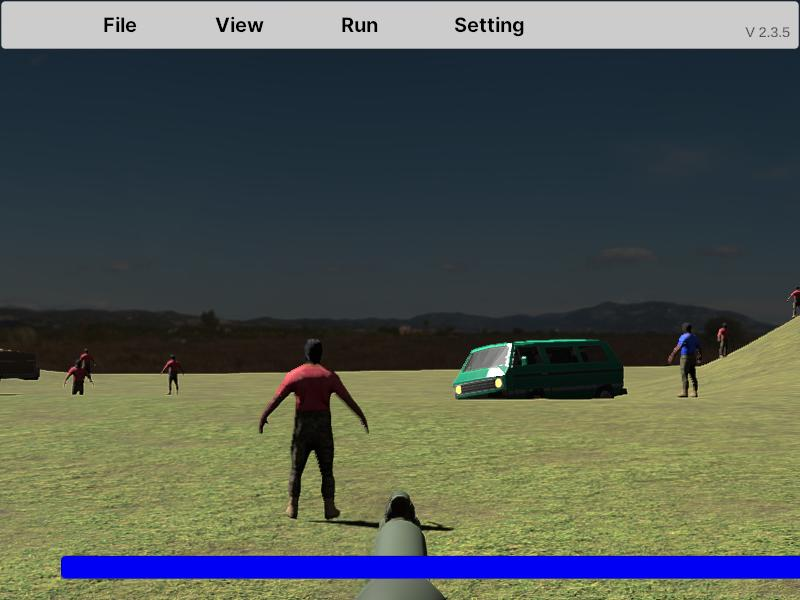Human: (258, 337, 369, 521), (669, 323, 703, 398)
car: (452, 338, 627, 410), (0, 333, 40, 384)
